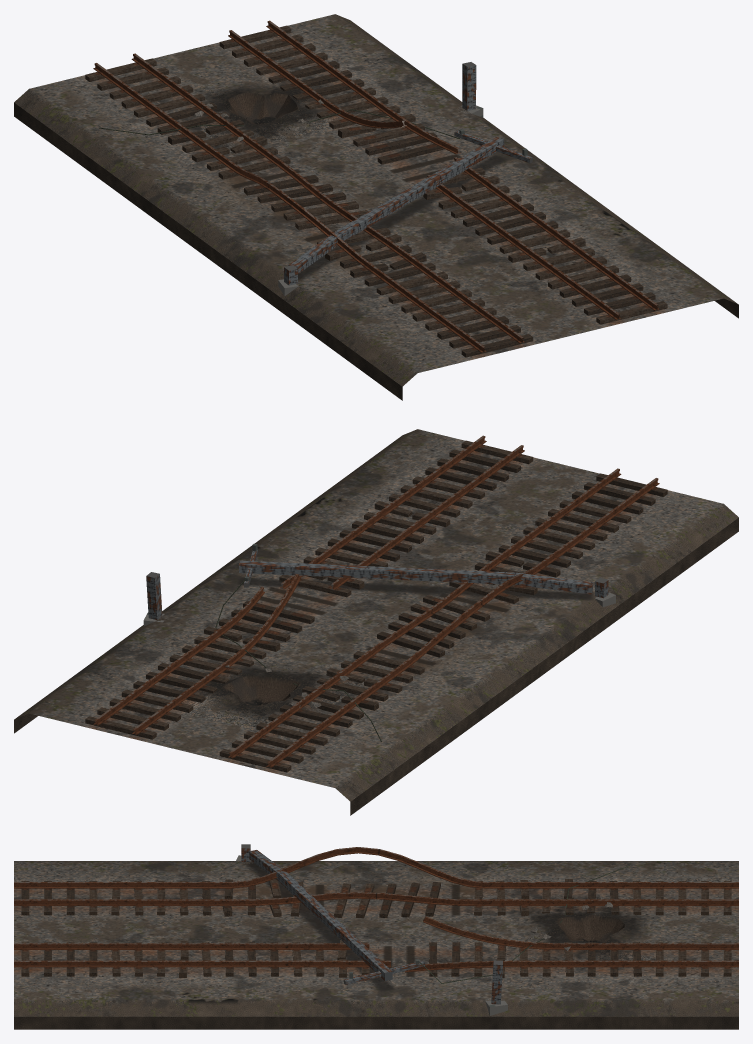
File: Rail_Damaged.fbx
The picture shows the model from 3 angles, top to bottom: view 1: azimuth 30°, elevation 25°; view 2: azimuth 150°, elevation 25°; view 3: azimuth 270°, elevation 25°; orthographic projection. The views are drawn at different scales.
Parts seen in each view (by area): view 1: Rail_Damaged; view 2: Rail_Damaged; view 3: Rail_Damaged.
Boxes of the visible parts, x1,y1,x2,y2 form: Rail_Damaged: [14, 14, 738, 400]; Rail_Damaged: [14, 429, 738, 815]; Rail_Damaged: [14, 844, 738, 1029].
Bounding box in the file's own units: 1000 × 191 × 2000.
